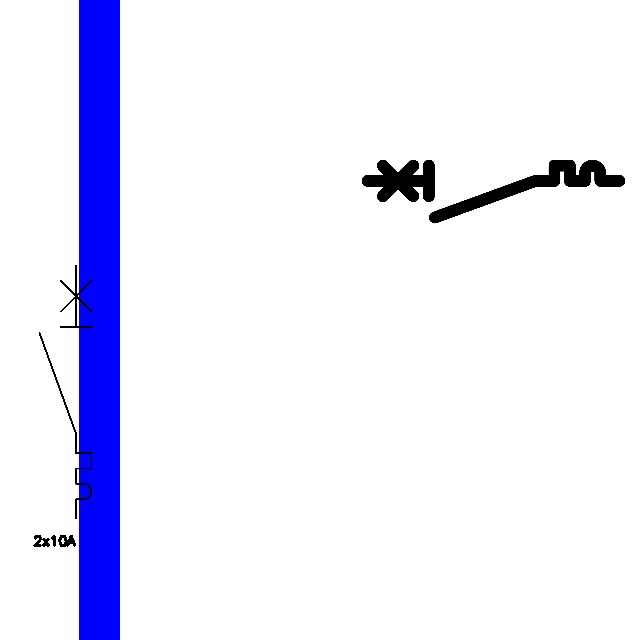interruptor_termomagnetico: (33, 259, 98, 525), (361, 159, 626, 223)
